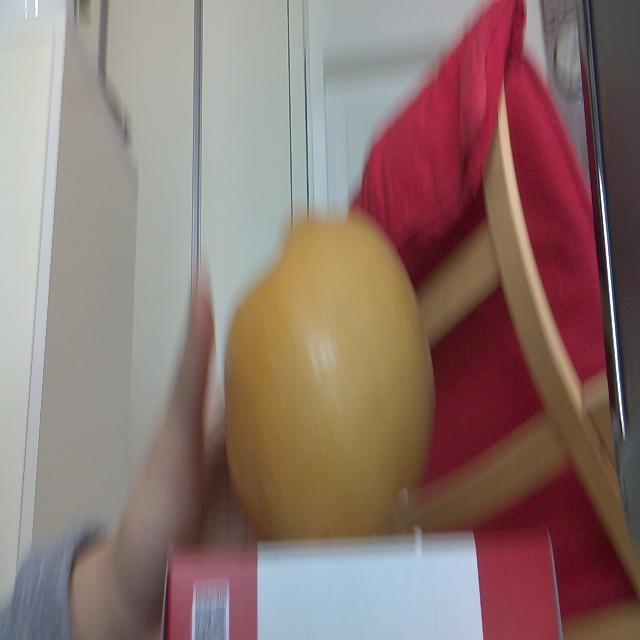pear: (220, 208, 440, 541)
